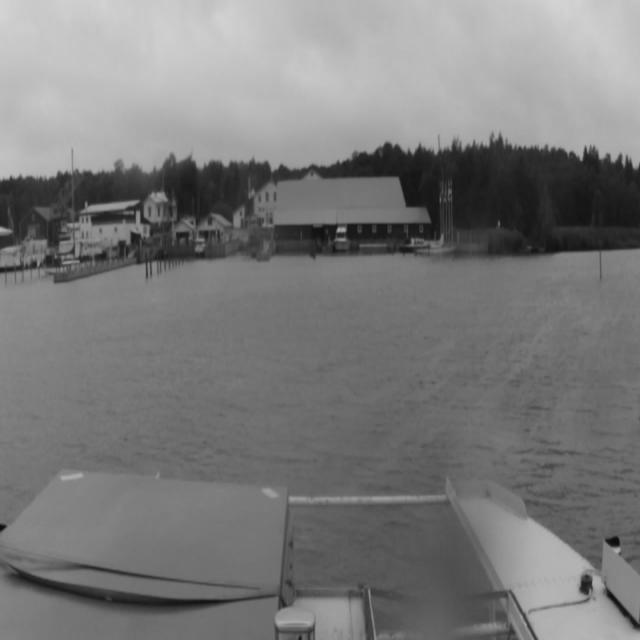buoy: (599, 239, 603, 281)
ship: (415, 132, 455, 258), (45, 148, 77, 279), (334, 225, 351, 253)
